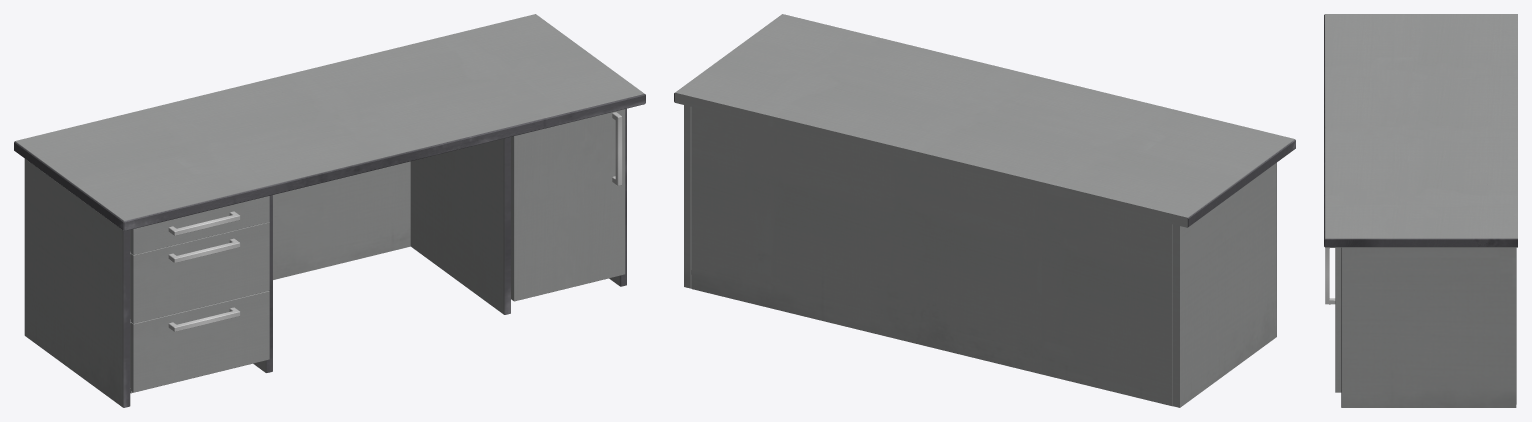
The model's file is Medical_desk_Grey.fbx.
3 views of the same model, side by side, from view 1: azimuth 30°, elevation 25°; view 2: azimuth 150°, elevation 25°; view 3: azimuth 270°, elevation 25° (orthographic). The views are drawn at different scales.
Visible parts, largest first — view 1: desk_frame01, desk_door01, desk_drawer03, desk_drawer02, desk_drawer01; view 2: desk_frame01; view 3: desk_frame01, desk_door01.
Part boxes in pixels (left/top/right/bottom): desk_frame01: left=14, top=14, right=645, bottom=407; desk_door01: left=511, top=109, right=625, bottom=301; desk_drawer03: left=130, top=291, right=269, bottom=392; desk_drawer02: left=130, top=222, right=269, bottom=323; desk_drawer01: left=130, top=196, right=269, bottom=254; desk_frame01: left=674, top=14, right=1295, bottom=407; desk_frame01: left=1324, top=14, right=1517, bottom=407; desk_door01: left=1325, top=247, right=1341, bottom=392.
Size of the model in its own units: 224 by 80.29 by 81.47.
